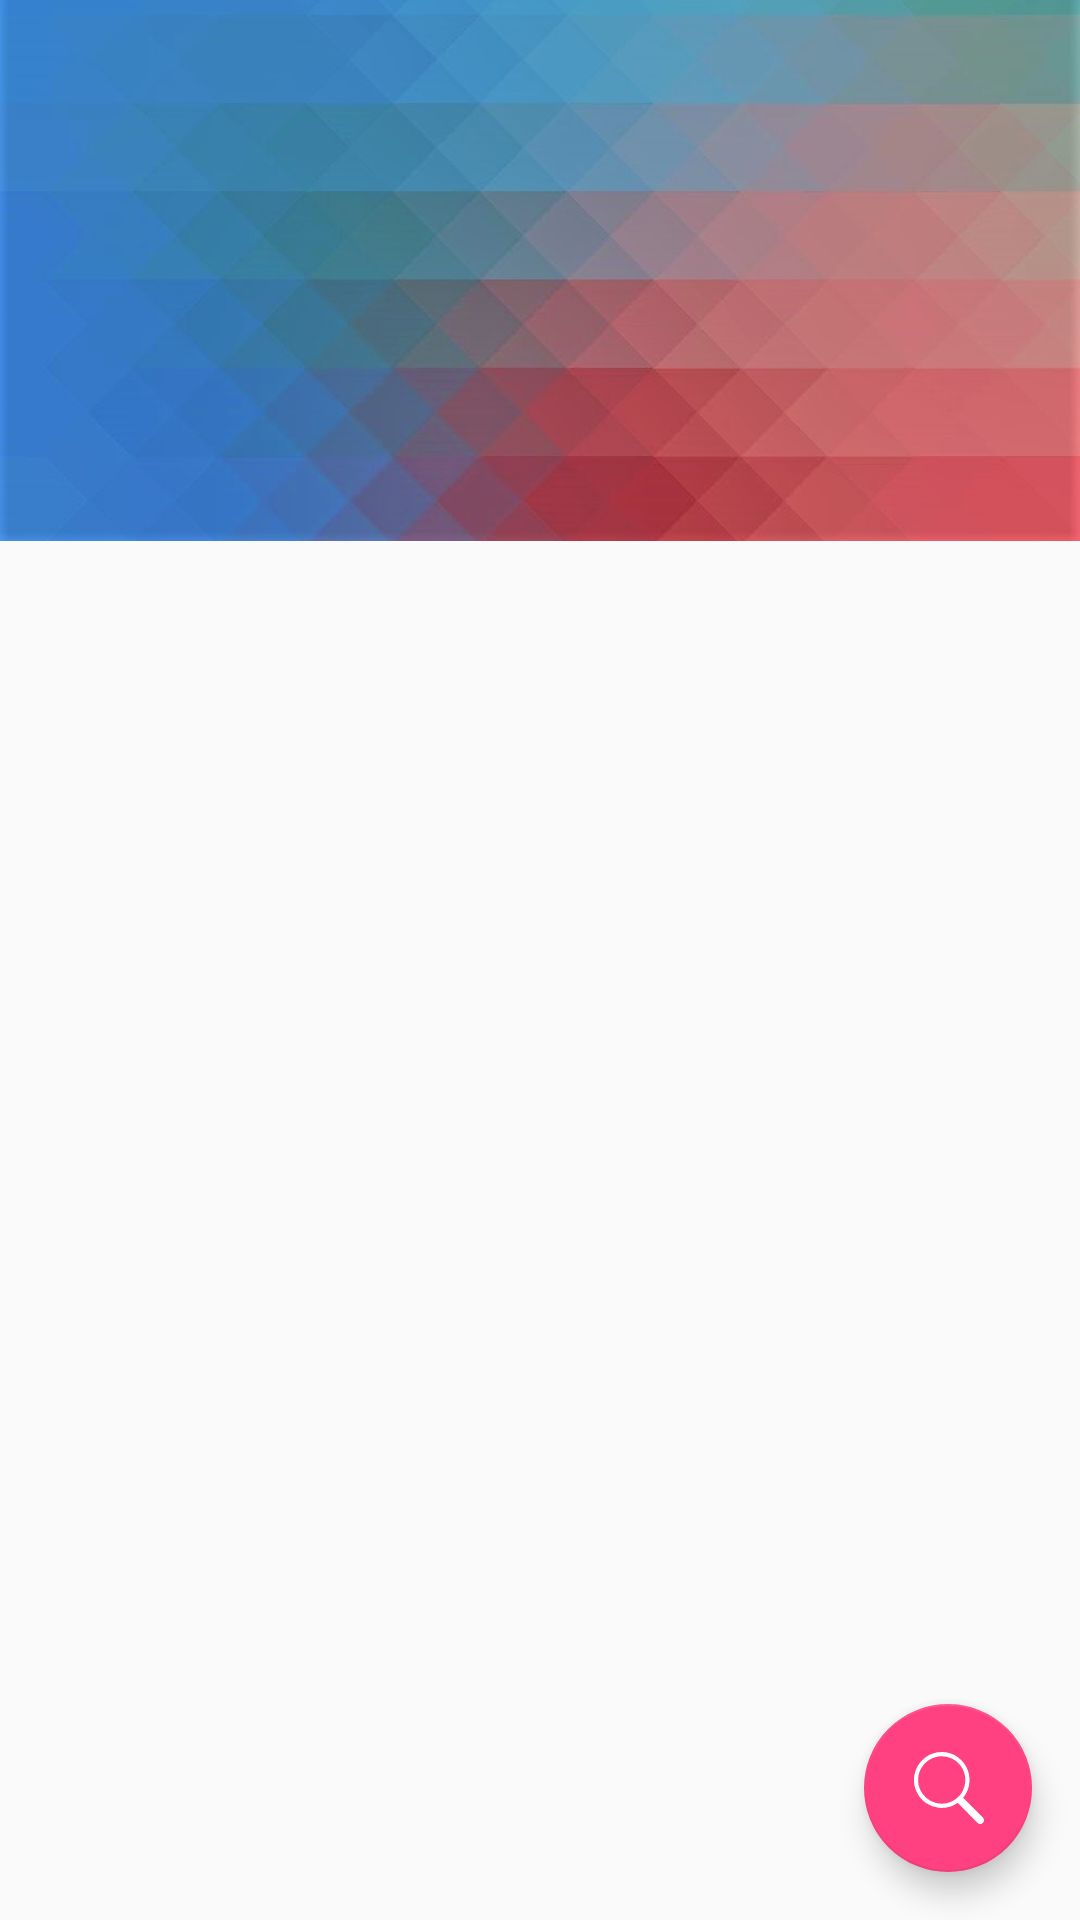

Where icons sit on this 1080*1920 app screen, as (x1, y1, x2, y2):
video search: (864, 1704, 1032, 1872)
